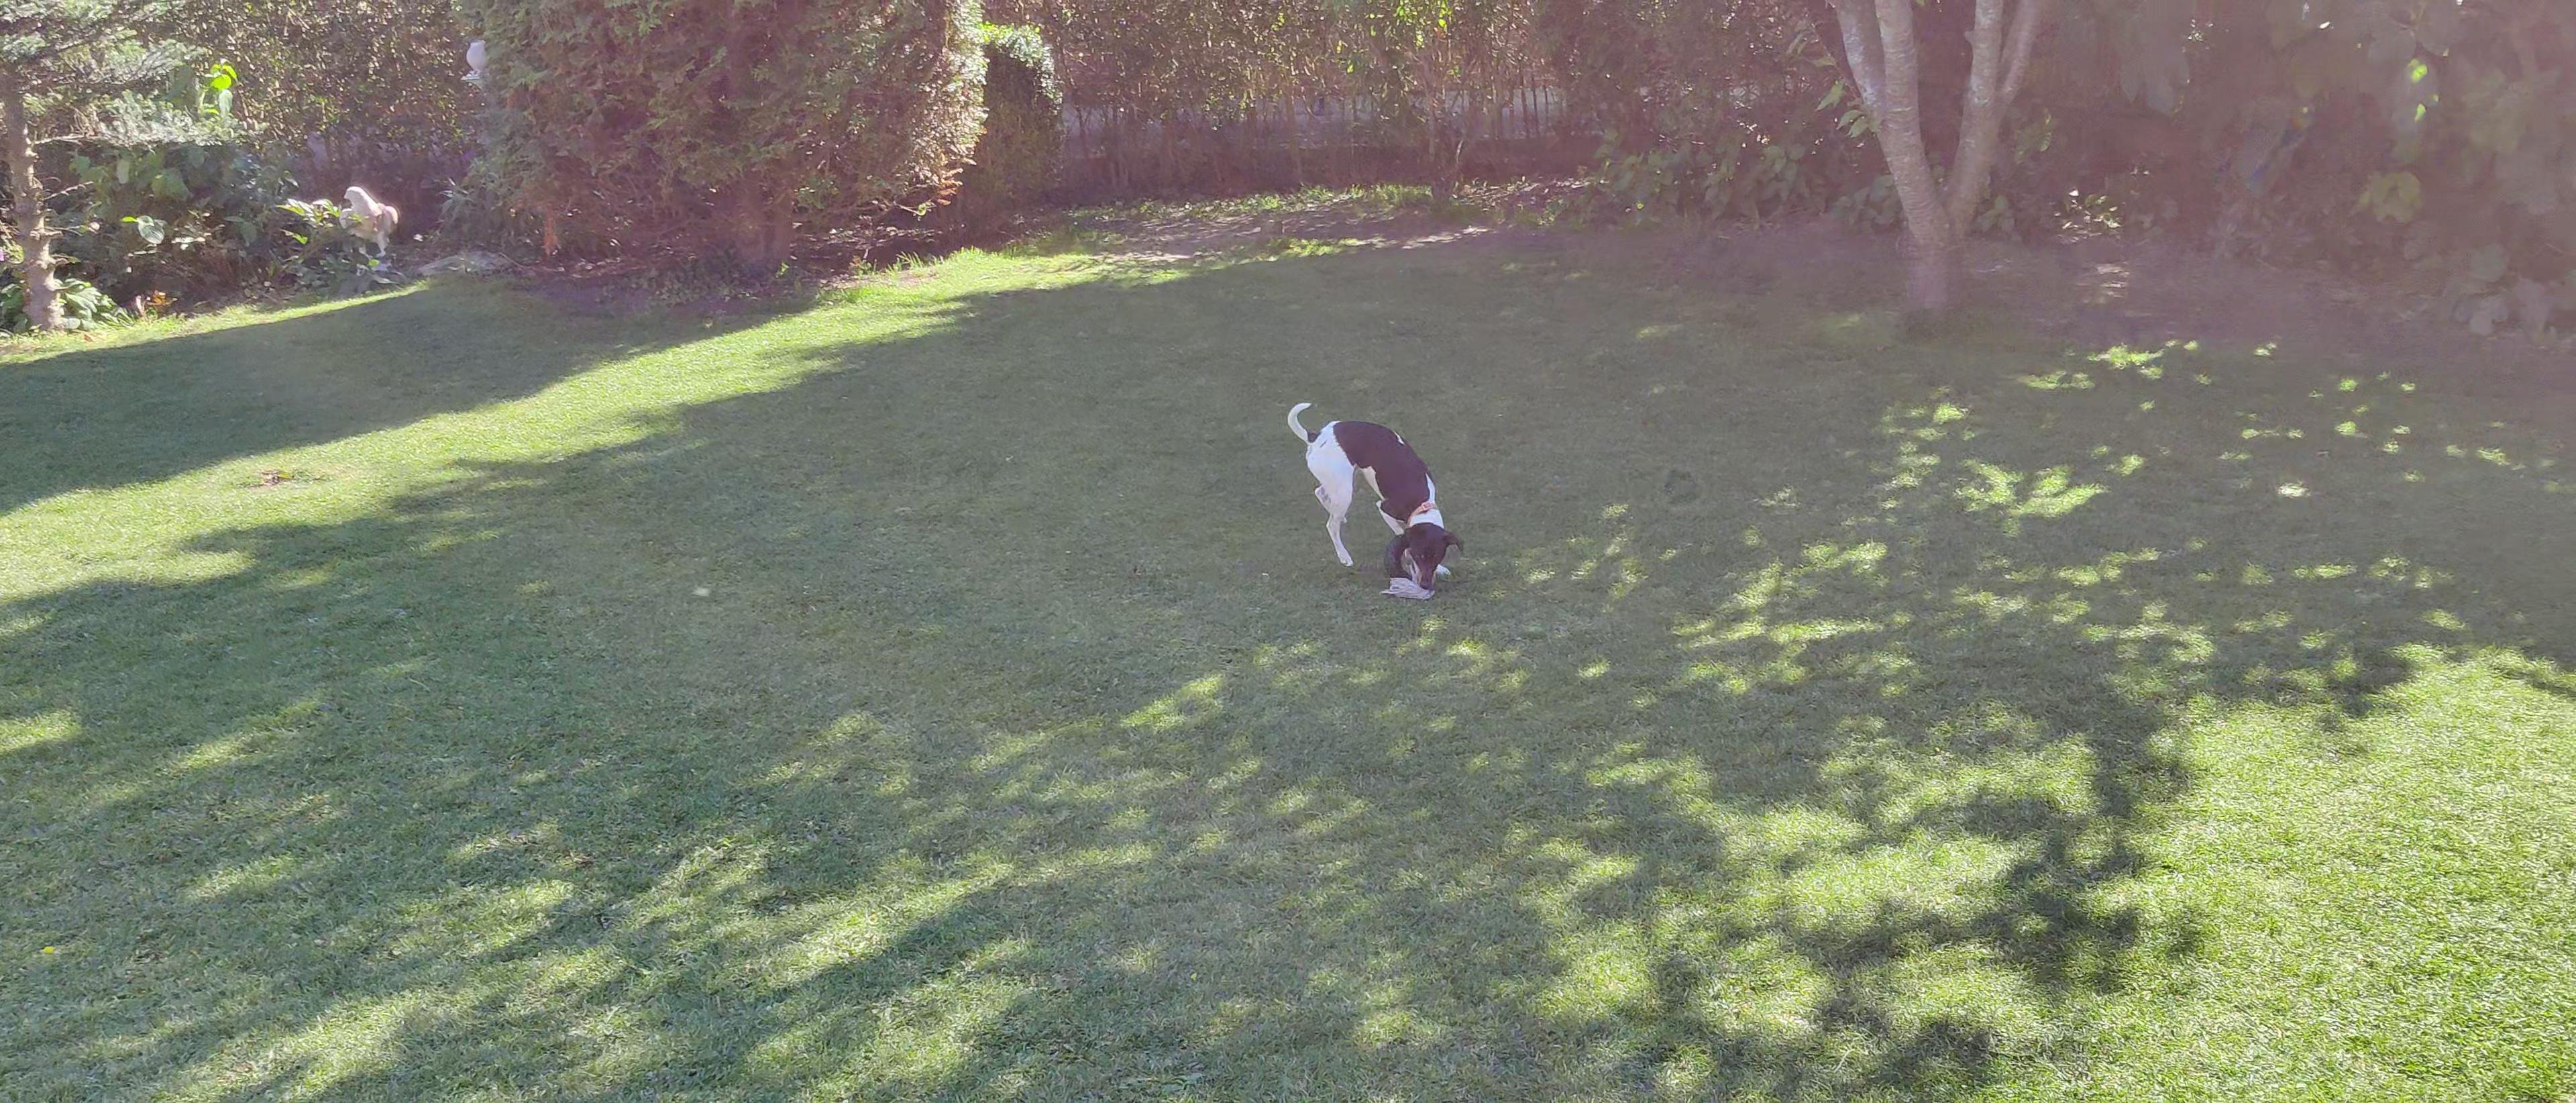Dog: (1278, 390, 1472, 592)
